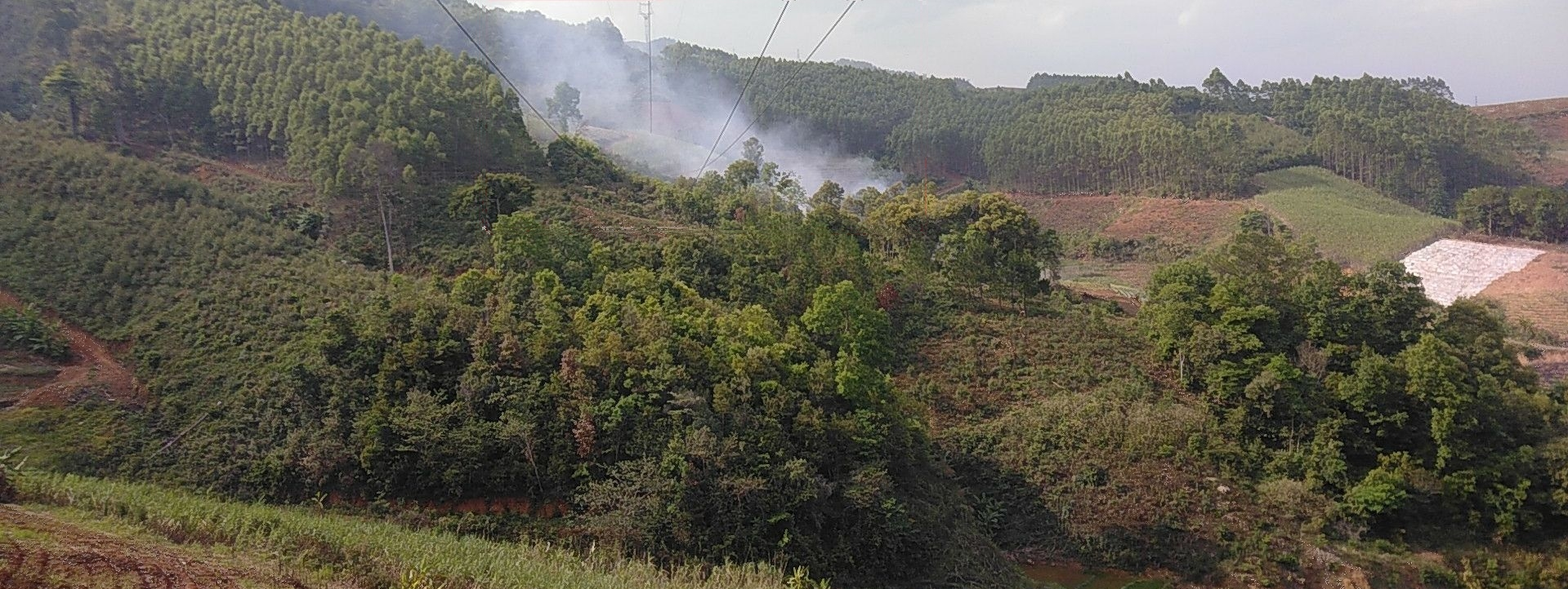烟雾: (281, 0, 909, 225)
